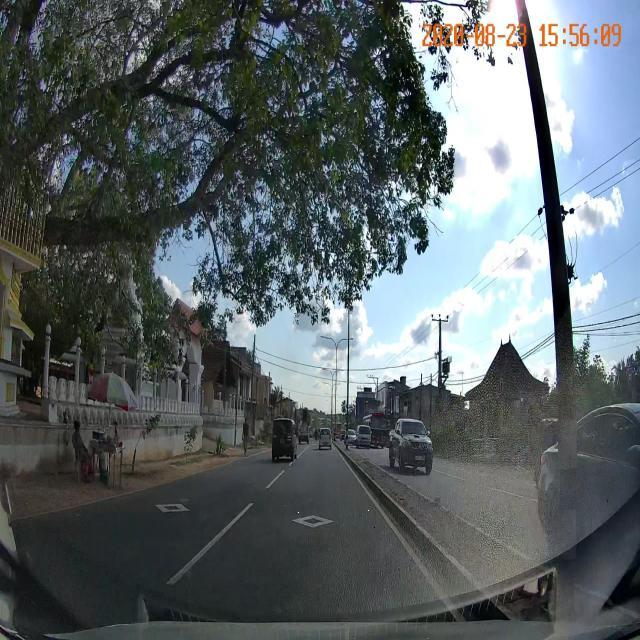diamond: (228, 506, 397, 530)
